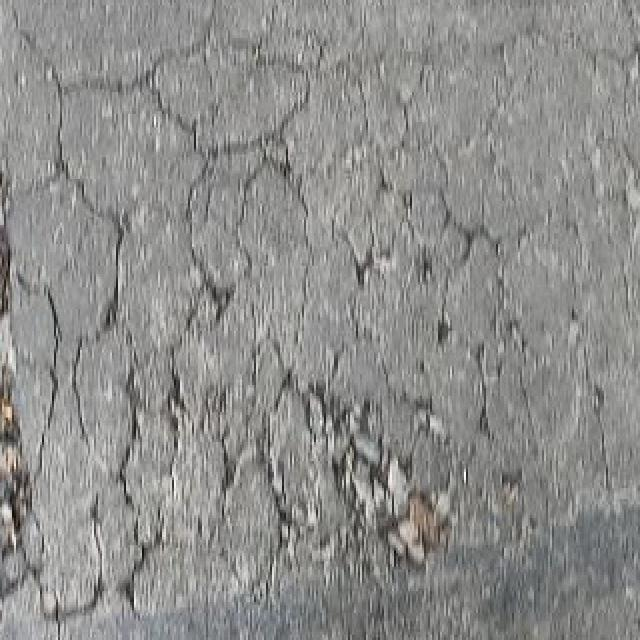GRIETA: (11, 0, 64, 82)
PIEL DE COCODRILO: (1, 21, 551, 629)
